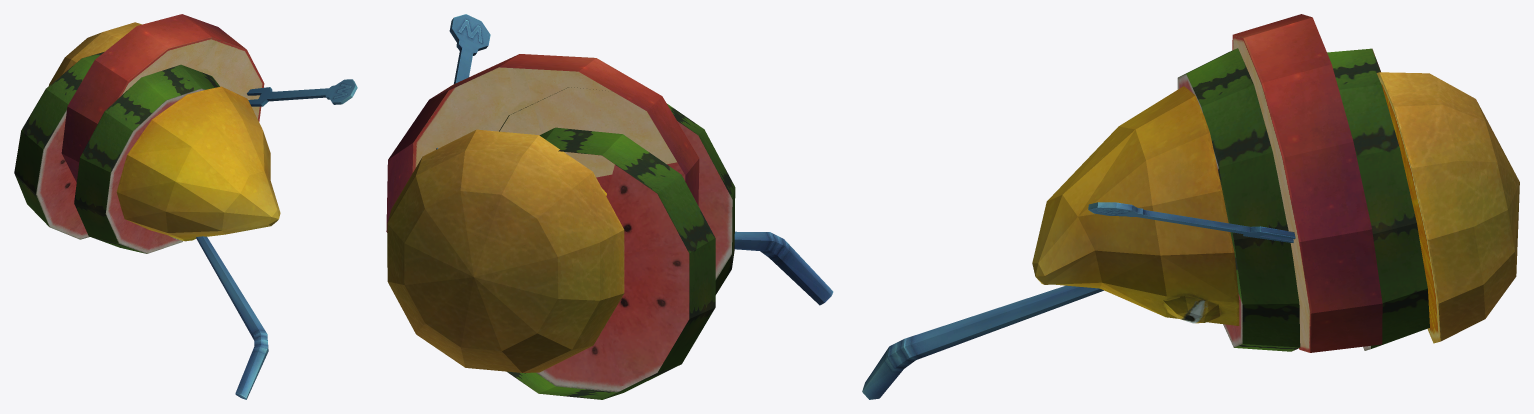
The model's file is zhanchang_fuben_376_shuiguo_03.obj.
The picture shows the model from 3 angles, left to right: view 1: azimuth 30°, elevation 25°; view 2: azimuth 150°, elevation 25°; view 3: azimuth 270°, elevation 25°; orthographic projection. The views are drawn at different scales.
Parts seen in each view (by area): view 1: zhanchang_fuben_376_shuiguo_03; view 2: zhanchang_fuben_376_shuiguo_03; view 3: zhanchang_fuben_376_shuiguo_03.
Boxes of the visible parts, <box> form: zhanchang_fuben_376_shuiguo_03: <box>14,14,357,399</box>; zhanchang_fuben_376_shuiguo_03: <box>386,14,833,399</box>; zhanchang_fuben_376_shuiguo_03: <box>862,14,1519,399</box>.
Bounding box in the file's own units: 308 × 301 × 441.
2 materials, 2 textured.
